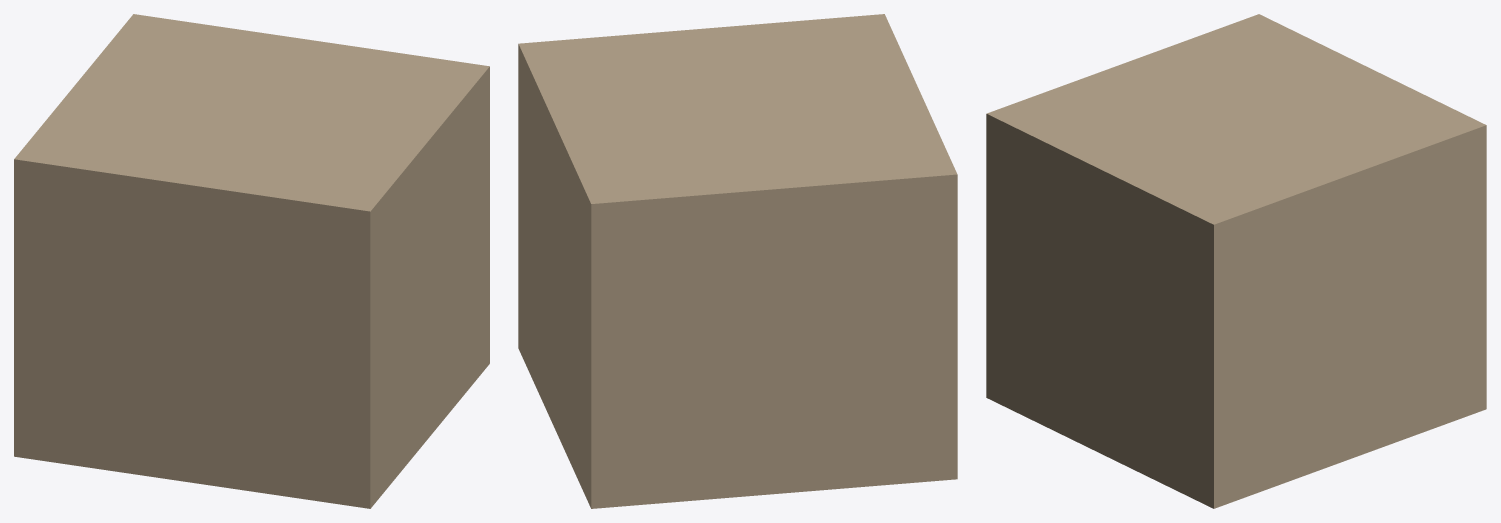
The model's file is bld_106338903.dae.
3 renders of one model, left to right at view 1: azimuth 30°, elevation 25°; view 2: azimuth 150°, elevation 25°; view 3: azimuth 270°, elevation 25°, orthographic. The views are drawn at different scales.
Parts seen in each view (by area): view 1: bld_106338903; view 2: bld_106338903; view 3: bld_106338903.
Part boxes in pixels (x1,y1,x2,y2): bld_106338903: [14, 14, 489, 508]; bld_106338903: [518, 14, 957, 508]; bld_106338903: [986, 14, 1486, 508].
Size of the model in its own units: 12.73 by 12.76 by 8.
